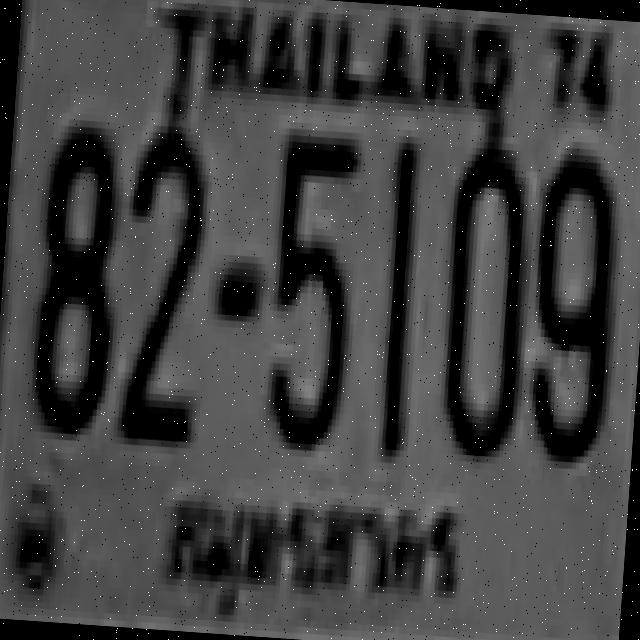0: (432, 136, 532, 454)
1: (372, 138, 419, 453)
2: (115, 114, 206, 438)
5: (260, 127, 359, 446)
8: (25, 118, 120, 428)
9: (522, 146, 620, 458)
SamutSakhon: (154, 476, 468, 618)
